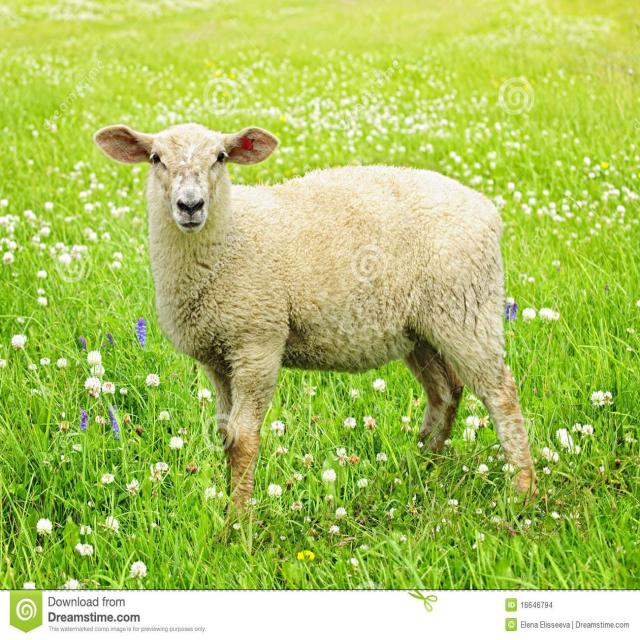Sheep: (91, 120, 537, 519)
